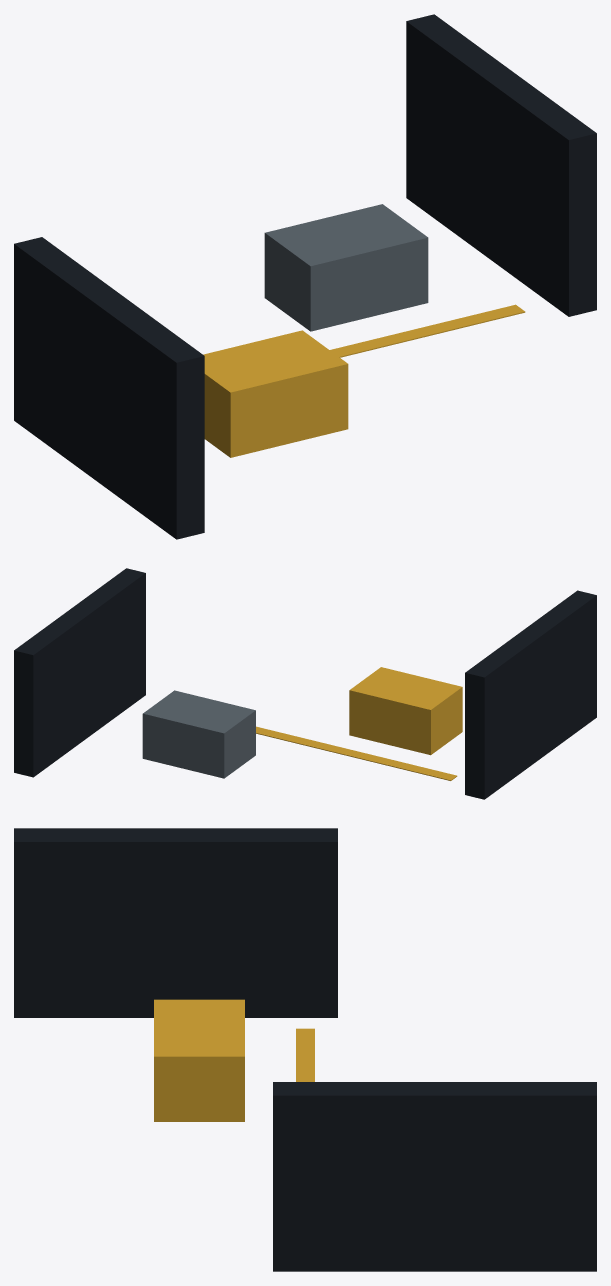
Rendered from module.forklift_chicane.glb.
3 views of the same model, one above another, from view 1: azimuth 30°, elevation 25°; view 2: azimuth 150°, elevation 25°; view 3: azimuth 270°, elevation 25° (orthographic). The views are drawn at different scales.
Visible parts, largest first — view 1: left_wall_short, right_wall_short, forklift_two, forklift_one, chicane_paint; view 2: left_wall_short, right_wall_short, forklift_two, forklift_one, chicane_paint; view 3: right_wall_short, left_wall_short, forklift_one, chicane_paint.
Part boxes in pixels (bbox=[...]): left_wall_short: bbox=[14, 237, 204, 539]; right_wall_short: bbox=[406, 14, 596, 316]; forklift_two: bbox=[264, 204, 428, 331]; forklift_one: bbox=[203, 330, 348, 457]; chicane_paint: bbox=[330, 304, 525, 357]; left_wall_short: bbox=[465, 590, 596, 799]; right_wall_short: bbox=[14, 568, 145, 777]; forklift_two: bbox=[142, 690, 255, 778]; forklift_one: bbox=[349, 667, 462, 755]; chicane_paint: bbox=[256, 726, 457, 780]; right_wall_short: bbox=[273, 1082, 596, 1271]; left_wall_short: bbox=[14, 828, 337, 1017]; forklift_one: bbox=[154, 999, 244, 1121]; chicane_paint: bbox=[296, 1028, 314, 1081].
Size of the model in its own units: 10.75 by 3.3 by 9.9.
